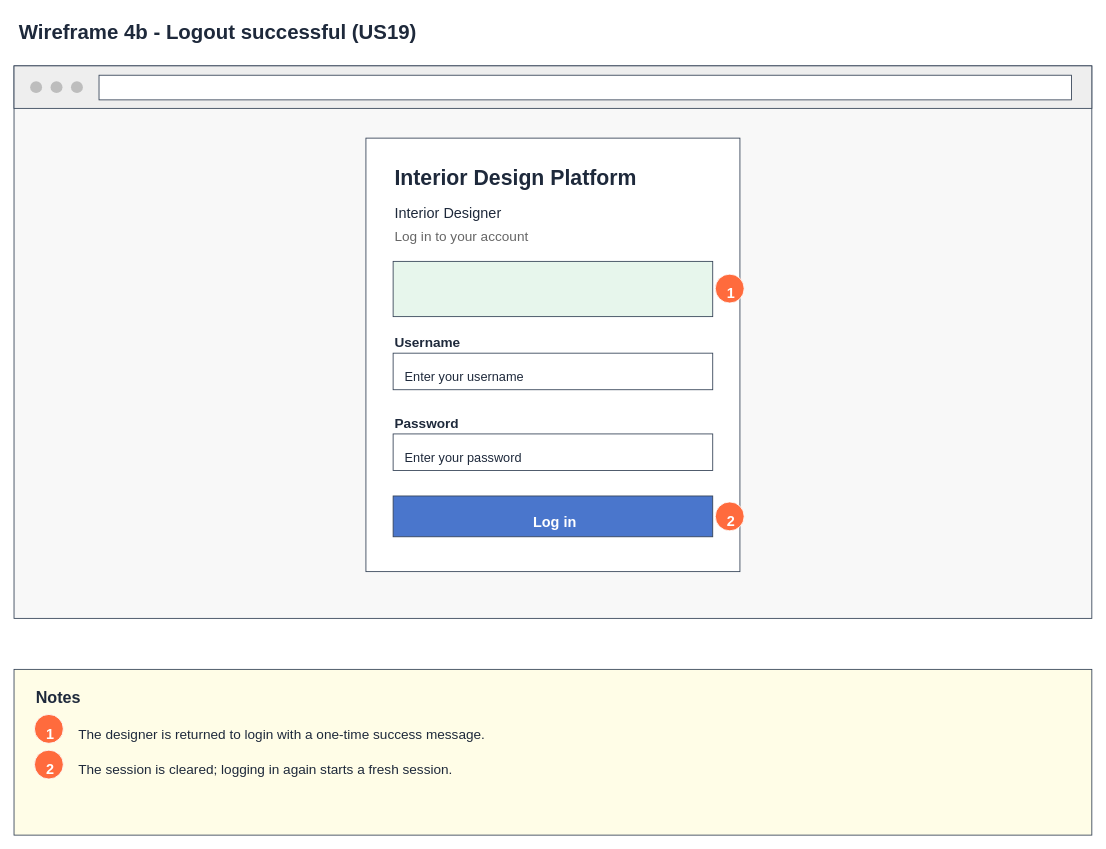
Some shapes in this 1106 by 849 pixel diagram are drawn without their labels. The shapes that lost their labels are listed below. From the top down, each one's centre as x and y in pixels, then its label:
the point at 584,87: localhost:5000/designer/login
the point at 552,289: You have logged out successfully
